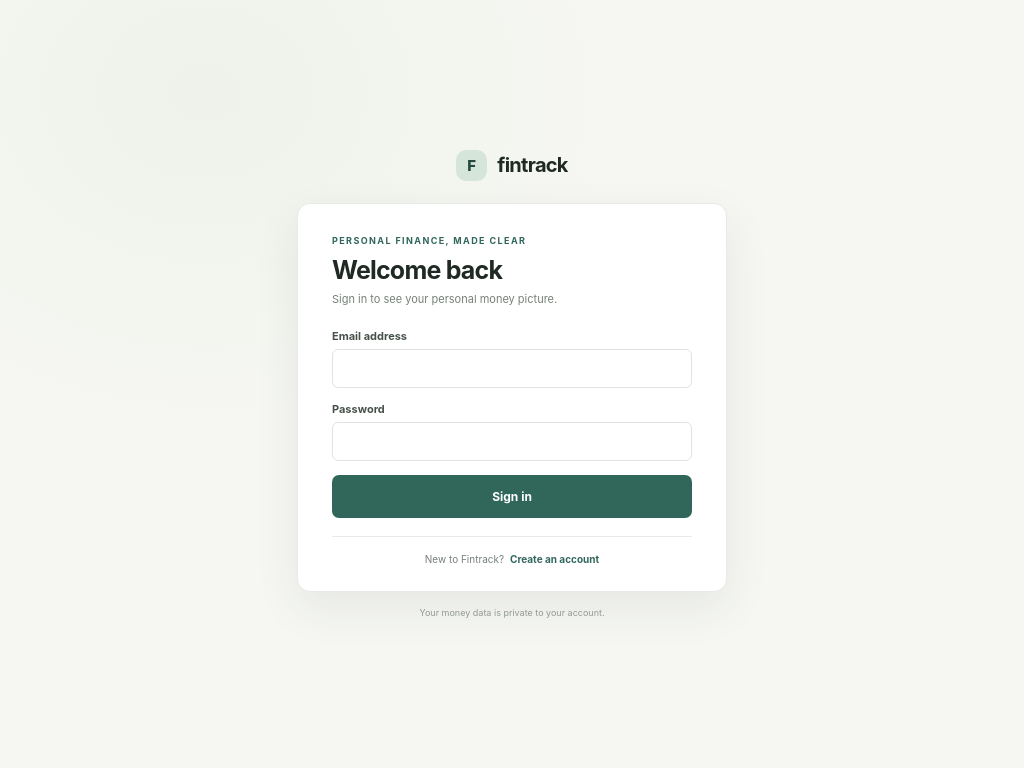
Test case: unauthenticated users are redirected, login errors are visible, and successful login can log out
Type "asha@example.com" into the field labelled "Email address" at (512, 369), box 332,349 -> 692,388
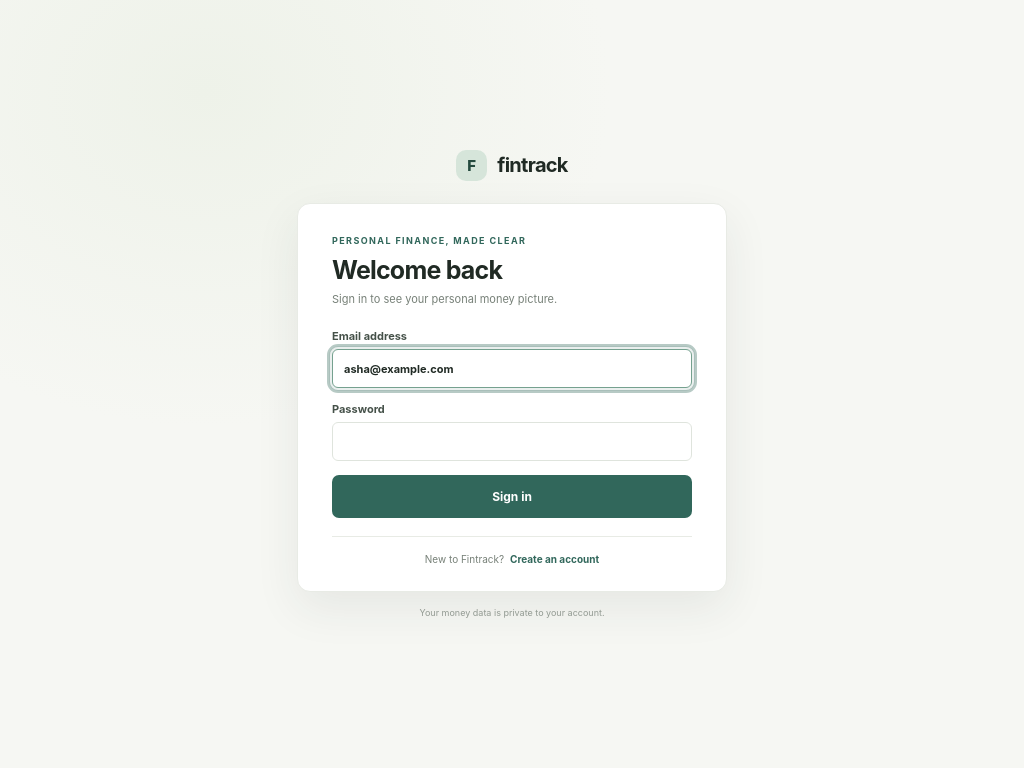
Type "wrong-password" into the password field labelled "Password" at (512, 442), box 332,422 -> 692,461
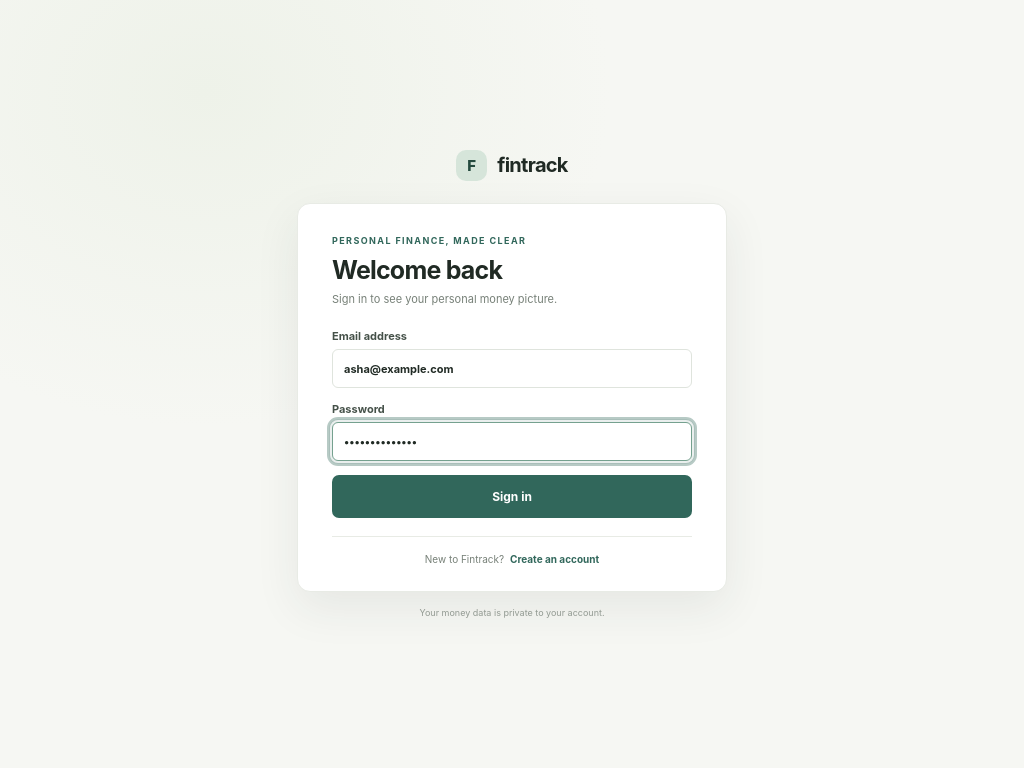
Click the button "Sign in" at (512, 497), box 332,475 -> 692,518
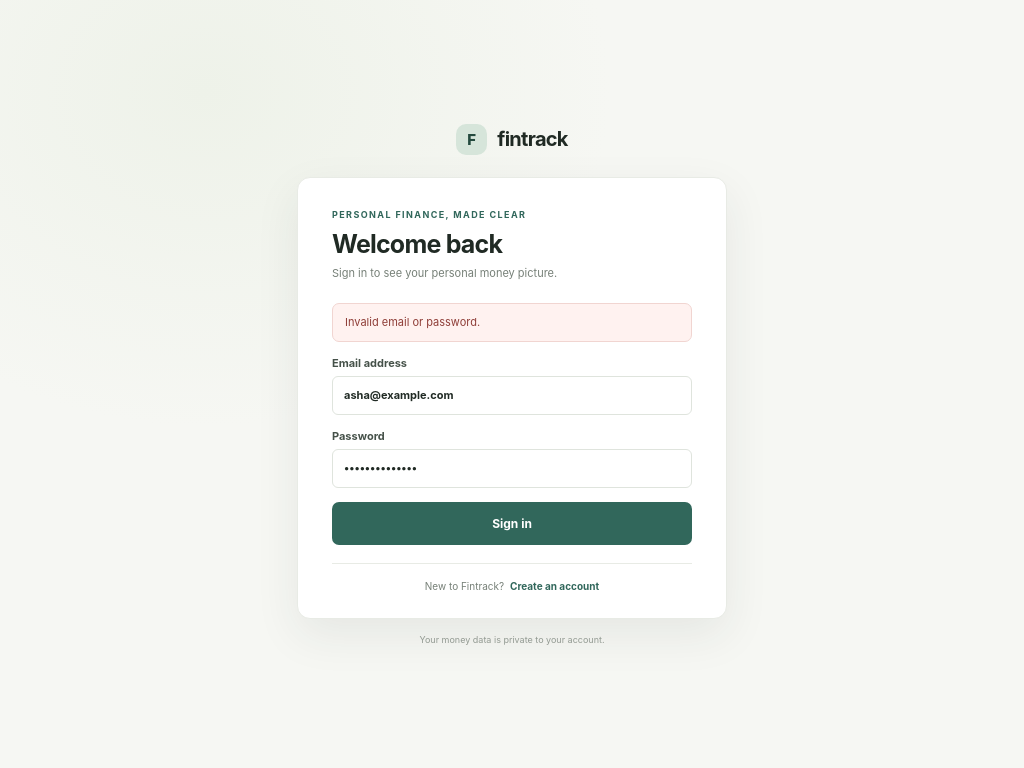
Now the message reads "Invalid email or password.", box 345,315 -> 480,329
Click the button "Sign in" at (512, 523), box 332,502 -> 692,544
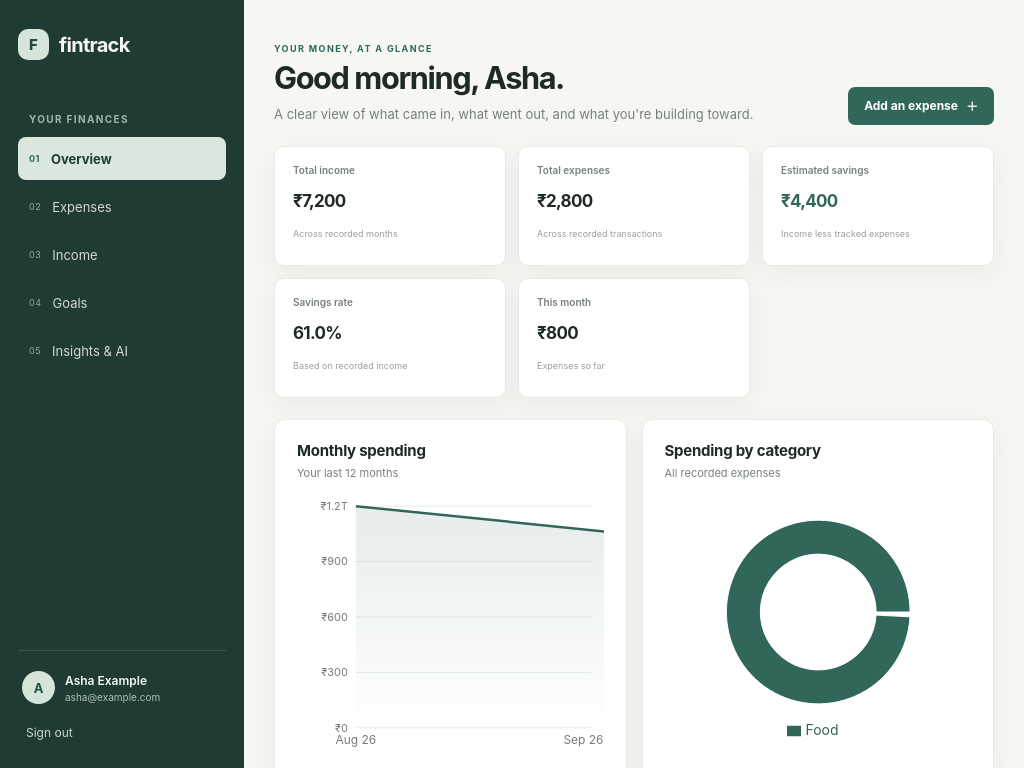
Now the text "Total income" is shown, box 293,164 -> 355,176
Click the button "Sign out" at (122, 732), box 18,716 -> 226,749
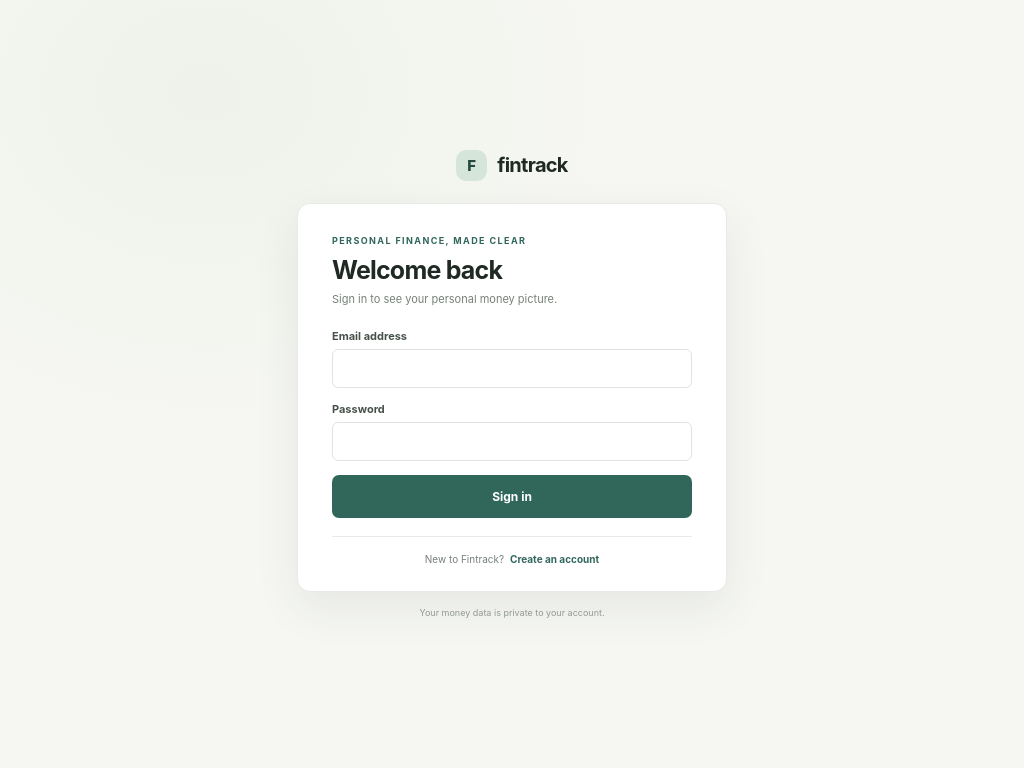
Now the heading "Welcome back" is shown, box 332,255 -> 502,285
